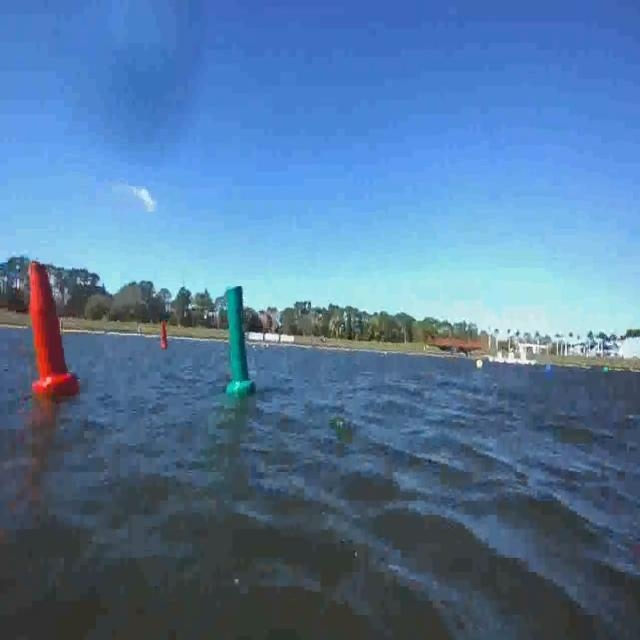blue-buoy: (544, 362, 552, 378)
green-column-buoy: (222, 282, 254, 396)
red-column-buoy: (25, 263, 77, 399), (162, 321, 170, 349)
yellow-buoy: (474, 358, 482, 372)
